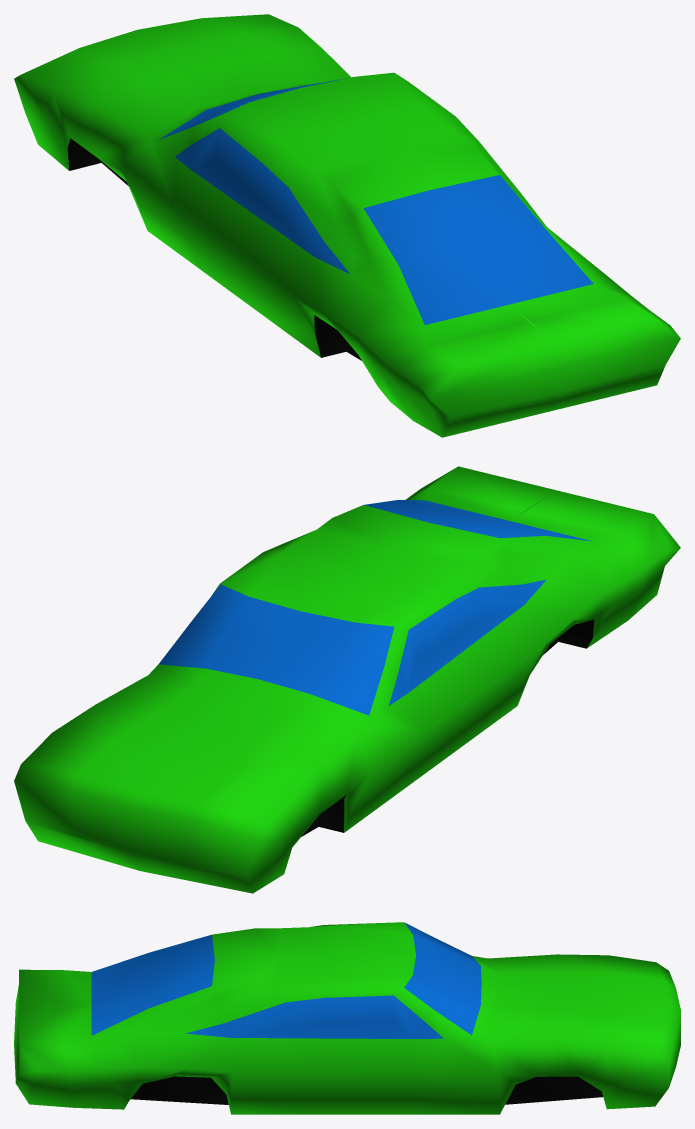
File: chargr.fbx
3 views of the same model, one above another, from view 1: azimuth 30°, elevation 25°; view 2: azimuth 150°, elevation 25°; view 3: azimuth 270°, elevation 25° (orthographic). The views are drawn at different scales.
Parts seen in each view (by area): view 1: Cube; view 2: Cube; view 3: Cube.
Part boxes in pixels (x1,y1,x2,y2): Cube: [14, 14, 680, 437]; Cube: [14, 466, 680, 893]; Cube: [14, 922, 680, 1114].
Bounding box in the file's own units: 324 × 199 × 965.
